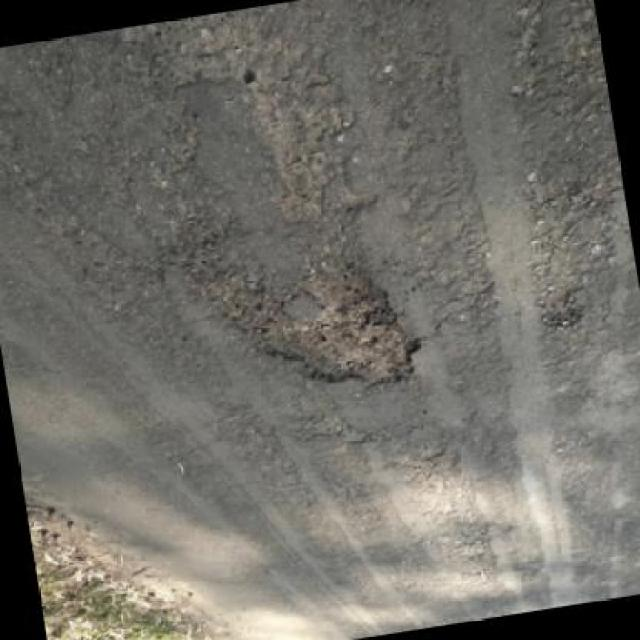pothole1: (218, 247, 430, 410), (532, 282, 588, 336)
